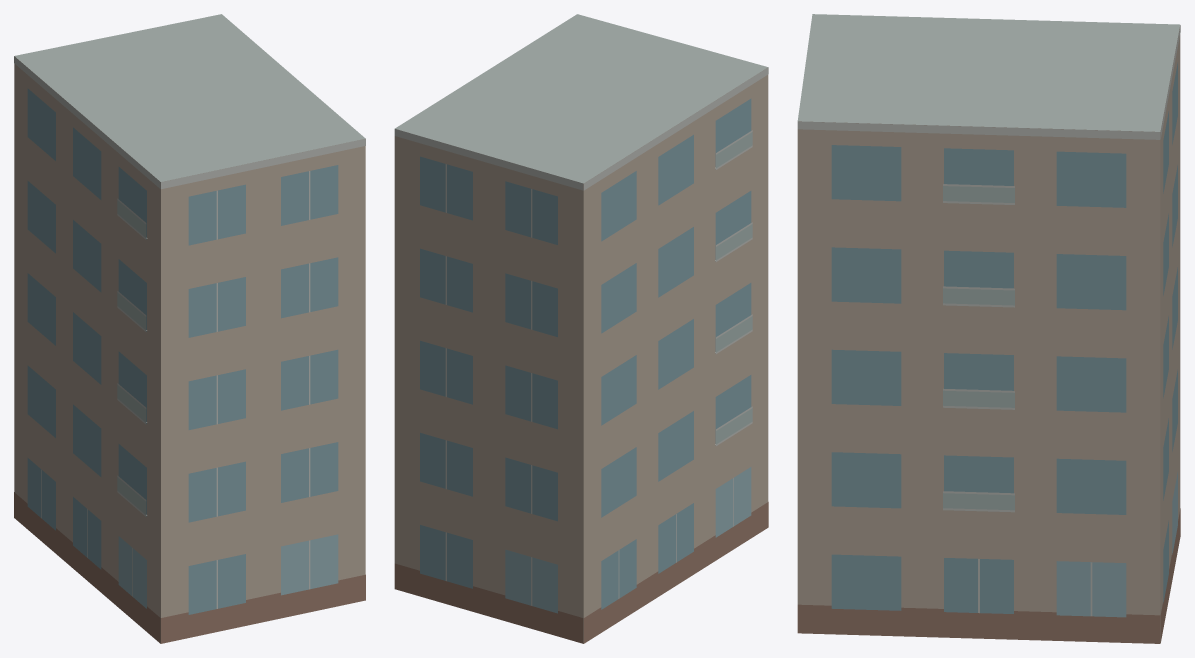
The model's file is survey-upis-32652702.glb.
3 views of the same model, side by side, from view 1: azimuth 30°, elevation 25°; view 2: azimuth 150°, elevation 25°; view 3: azimuth 270°, elevation 25° (orthographic). The views are drawn at different scales.
Parts seen in each view (by area): view 1: survey-upis-32652702.tmp; view 2: survey-upis-32652702.tmp; view 3: survey-upis-32652702.tmp.
Part boxes in pixels (left/top/right/bottom): survey-upis-32652702.tmp: left=14, top=14, right=365, bottom=643; survey-upis-32652702.tmp: left=394, top=14, right=768, bottom=643; survey-upis-32652702.tmp: left=797, top=14, right=1180, bottom=643.
Bounding box in the file's own units: 7.71 × 15.59 × 10.58.
